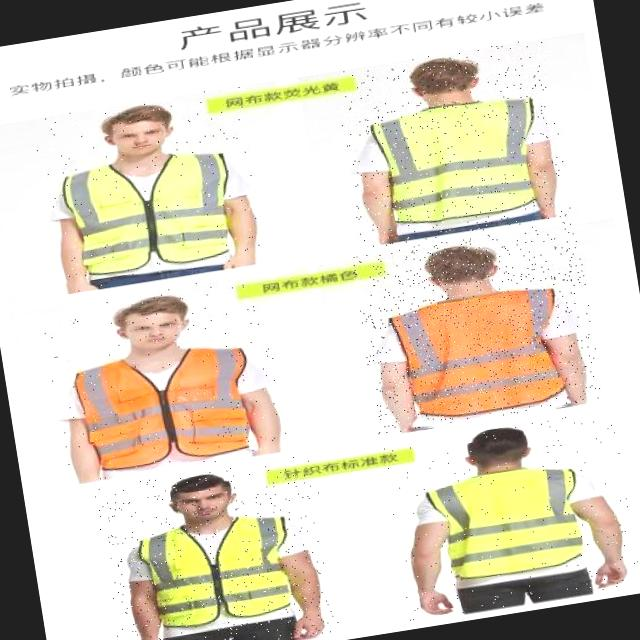no-gloves: (411, 583, 457, 621), (592, 555, 634, 593), (292, 607, 329, 640), (133, 630, 176, 640)
no-helmet: (104, 290, 194, 356), (424, 238, 508, 300), (100, 102, 178, 160), (162, 468, 239, 524), (412, 52, 486, 110), (463, 422, 535, 477)
vest: (59, 338, 268, 481), (386, 284, 586, 425), (55, 144, 252, 286), (367, 90, 552, 228), (119, 508, 308, 640), (426, 463, 598, 591)
